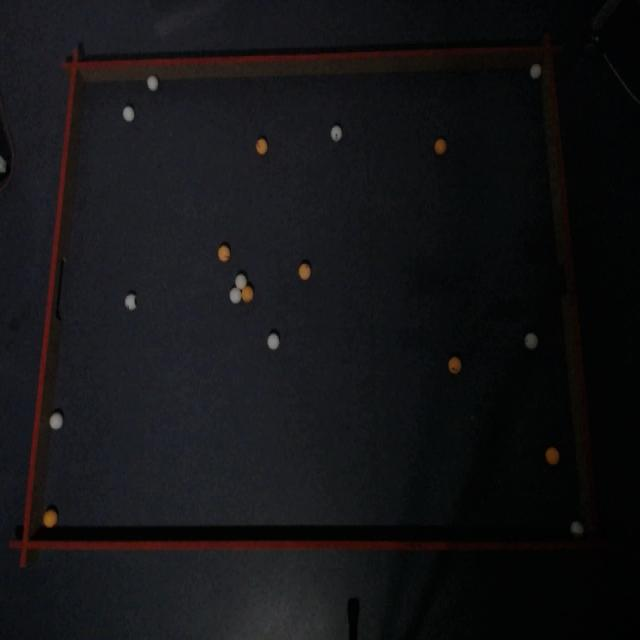orange_ball: (545, 446, 559, 466), (43, 509, 57, 528), (298, 262, 311, 280), (241, 284, 254, 302), (255, 138, 268, 155), (434, 138, 446, 156), (218, 244, 230, 262), (450, 360, 459, 373)
white_ball: (49, 412, 64, 431), (524, 332, 538, 350), (267, 332, 280, 350), (570, 521, 584, 537), (122, 105, 134, 122), (146, 75, 158, 92), (235, 272, 247, 289), (530, 63, 542, 79), (331, 125, 342, 142), (230, 287, 240, 303), (130, 296, 136, 308)
